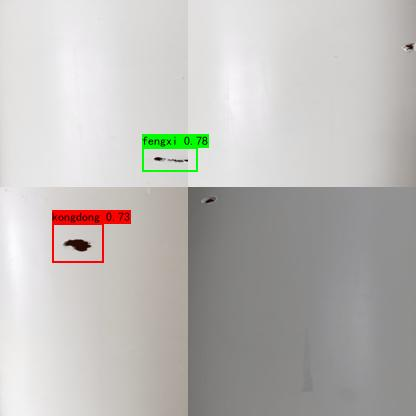fengxi: (151, 153, 187, 165)
kongdong: (57, 236, 92, 254), (196, 196, 220, 208), (397, 41, 416, 55)
